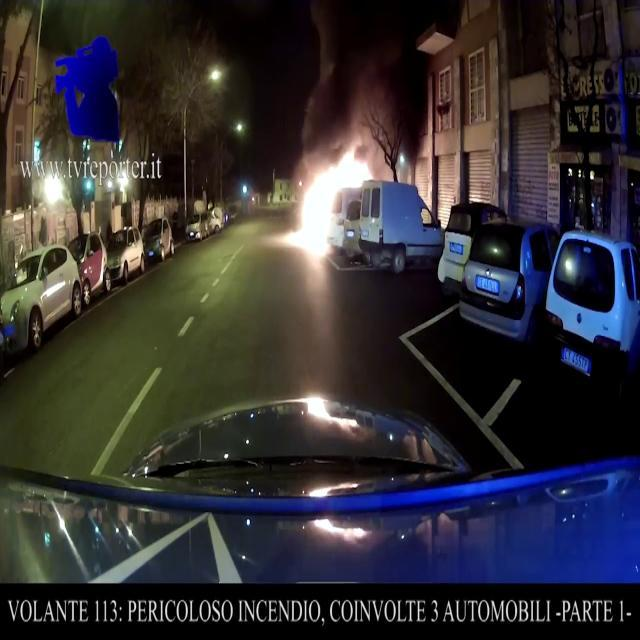Fire: (289, 140, 375, 258)
Smoke: (298, 1, 444, 158)
